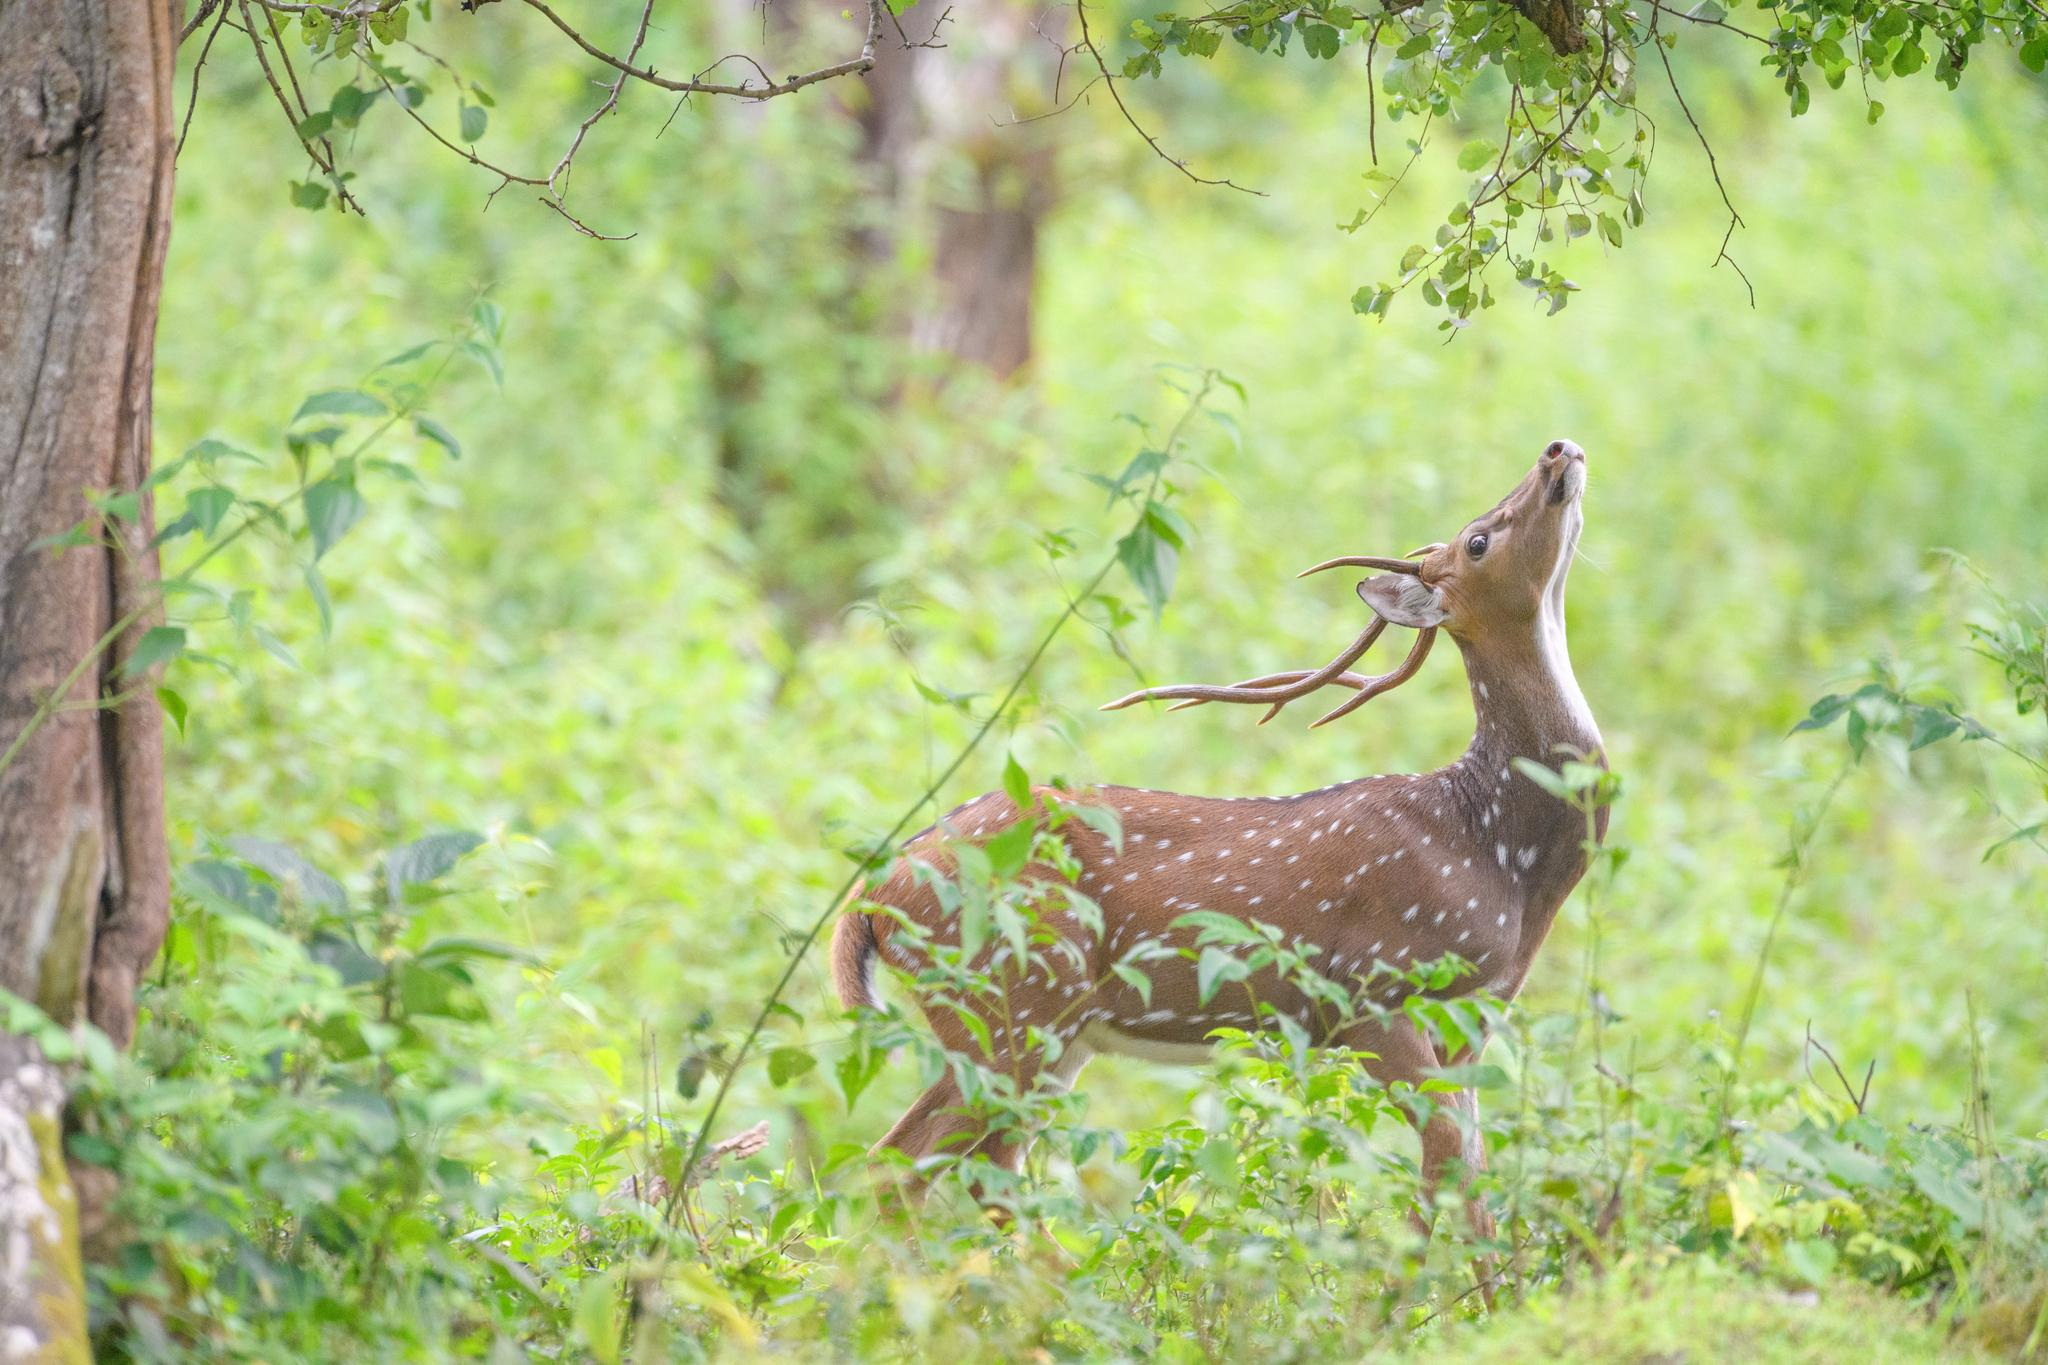Deer: (828, 439, 1614, 1208)
